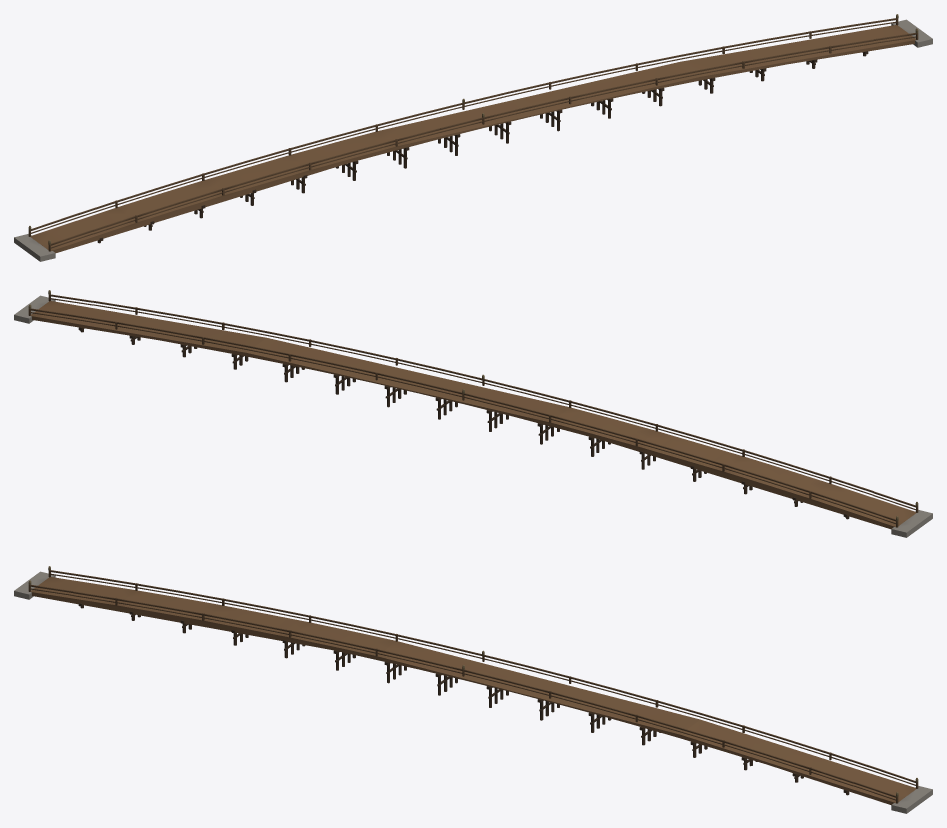
File: ryogoku-bridge.glb
3 renders of one model, top to bottom at view 1: azimuth 30°, elevation 25°; view 2: azimuth 150°, elevation 25°; view 3: azimuth 330°, elevation 25°, orthographic.
Visible parts, largest first — view 1: p1_bridge, p0_abutments; view 2: p1_bridge, p0_abutments; view 3: p1_bridge, p0_abutments.
Boxes of the visible parts, left/top/right/bottom form: p1_bridge: left=28, top=14, right=918, bottom=252; p0_abutments: left=14, top=19, right=932, bottom=261; p1_bridge: left=28, top=290, right=918, bottom=529; p0_abutments: left=14, top=295, right=932, bottom=537; p1_bridge: left=28, top=566, right=918, bottom=804; p0_abutments: left=14, top=571, right=932, bottom=813.
Bounding box in the file's own units: 176 × 7.09 × 9.
